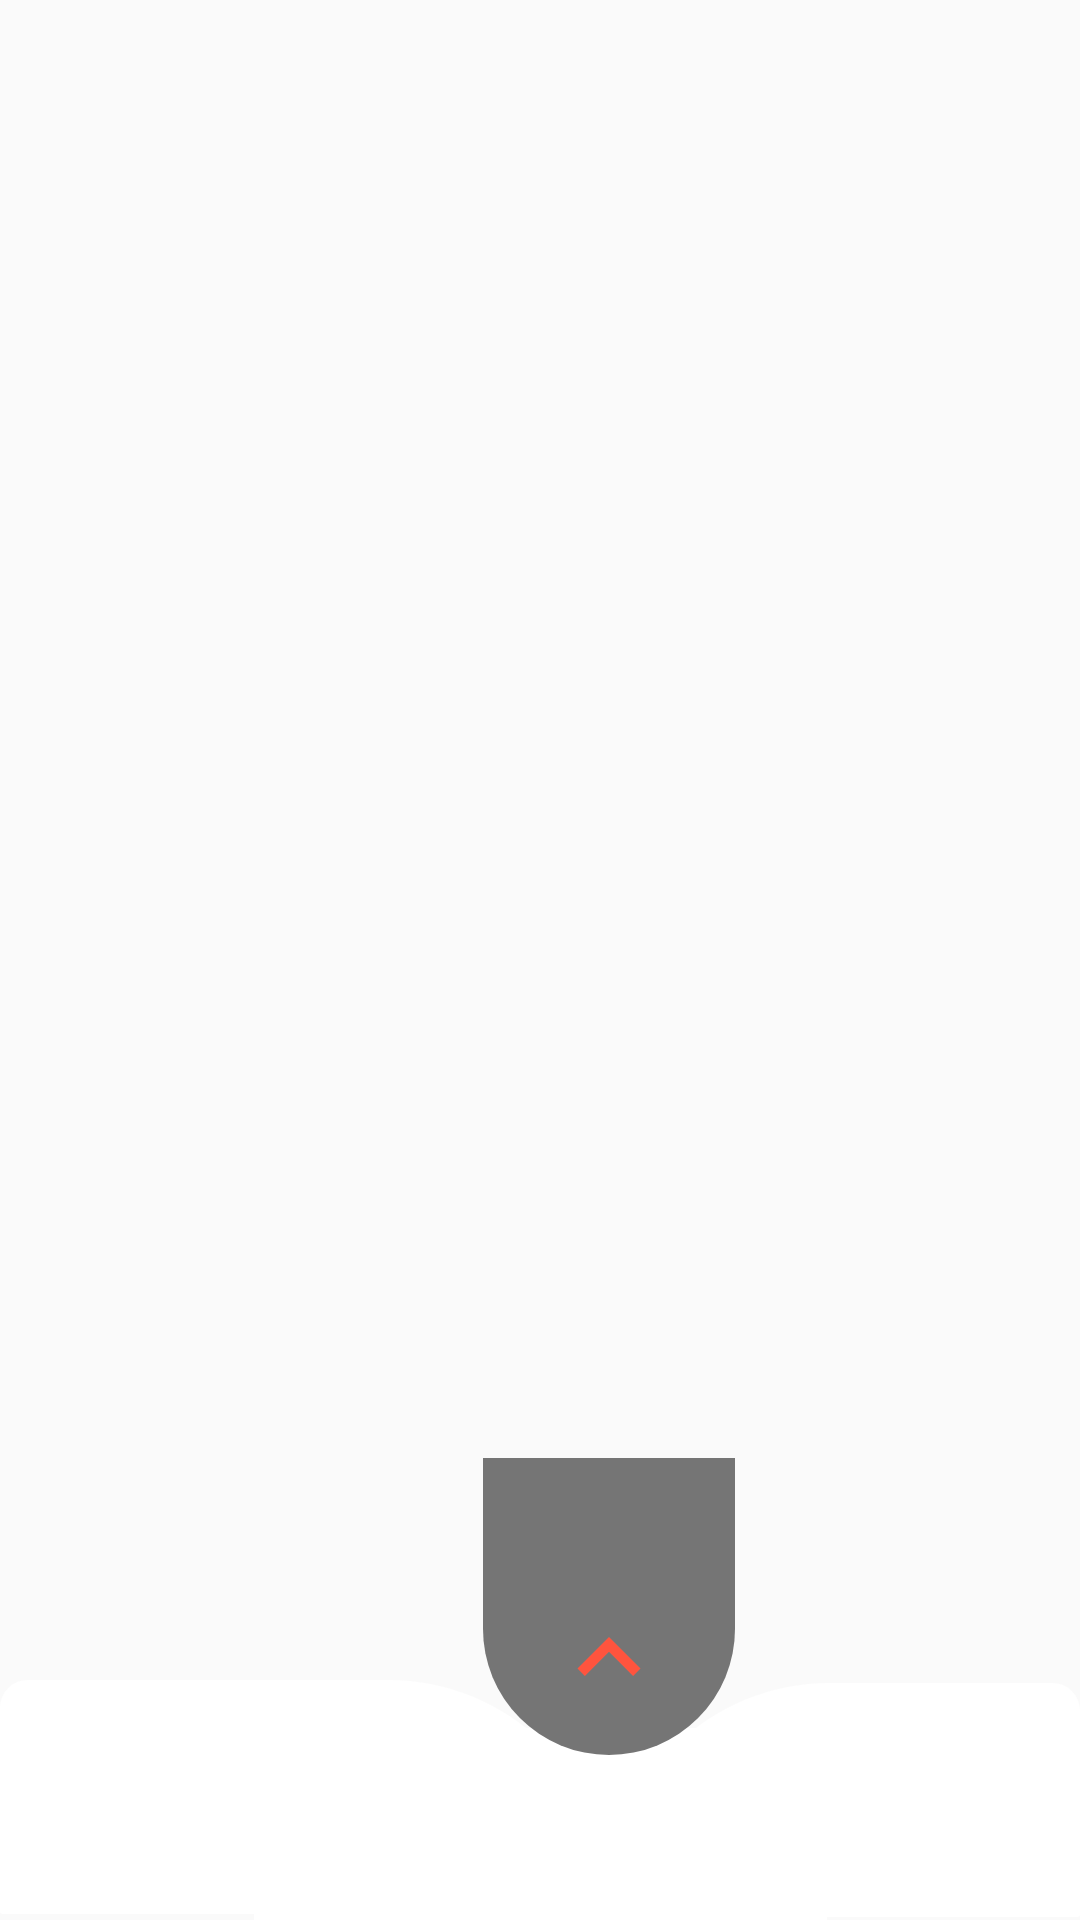

Locate icon controls on the screen. Image size 1080px×1920px, boxes as [x1=x1, y1=y1, x2=x2, y2=y2].
keyboard arrow up: [x1=577, y1=1637, x2=641, y2=1676]
